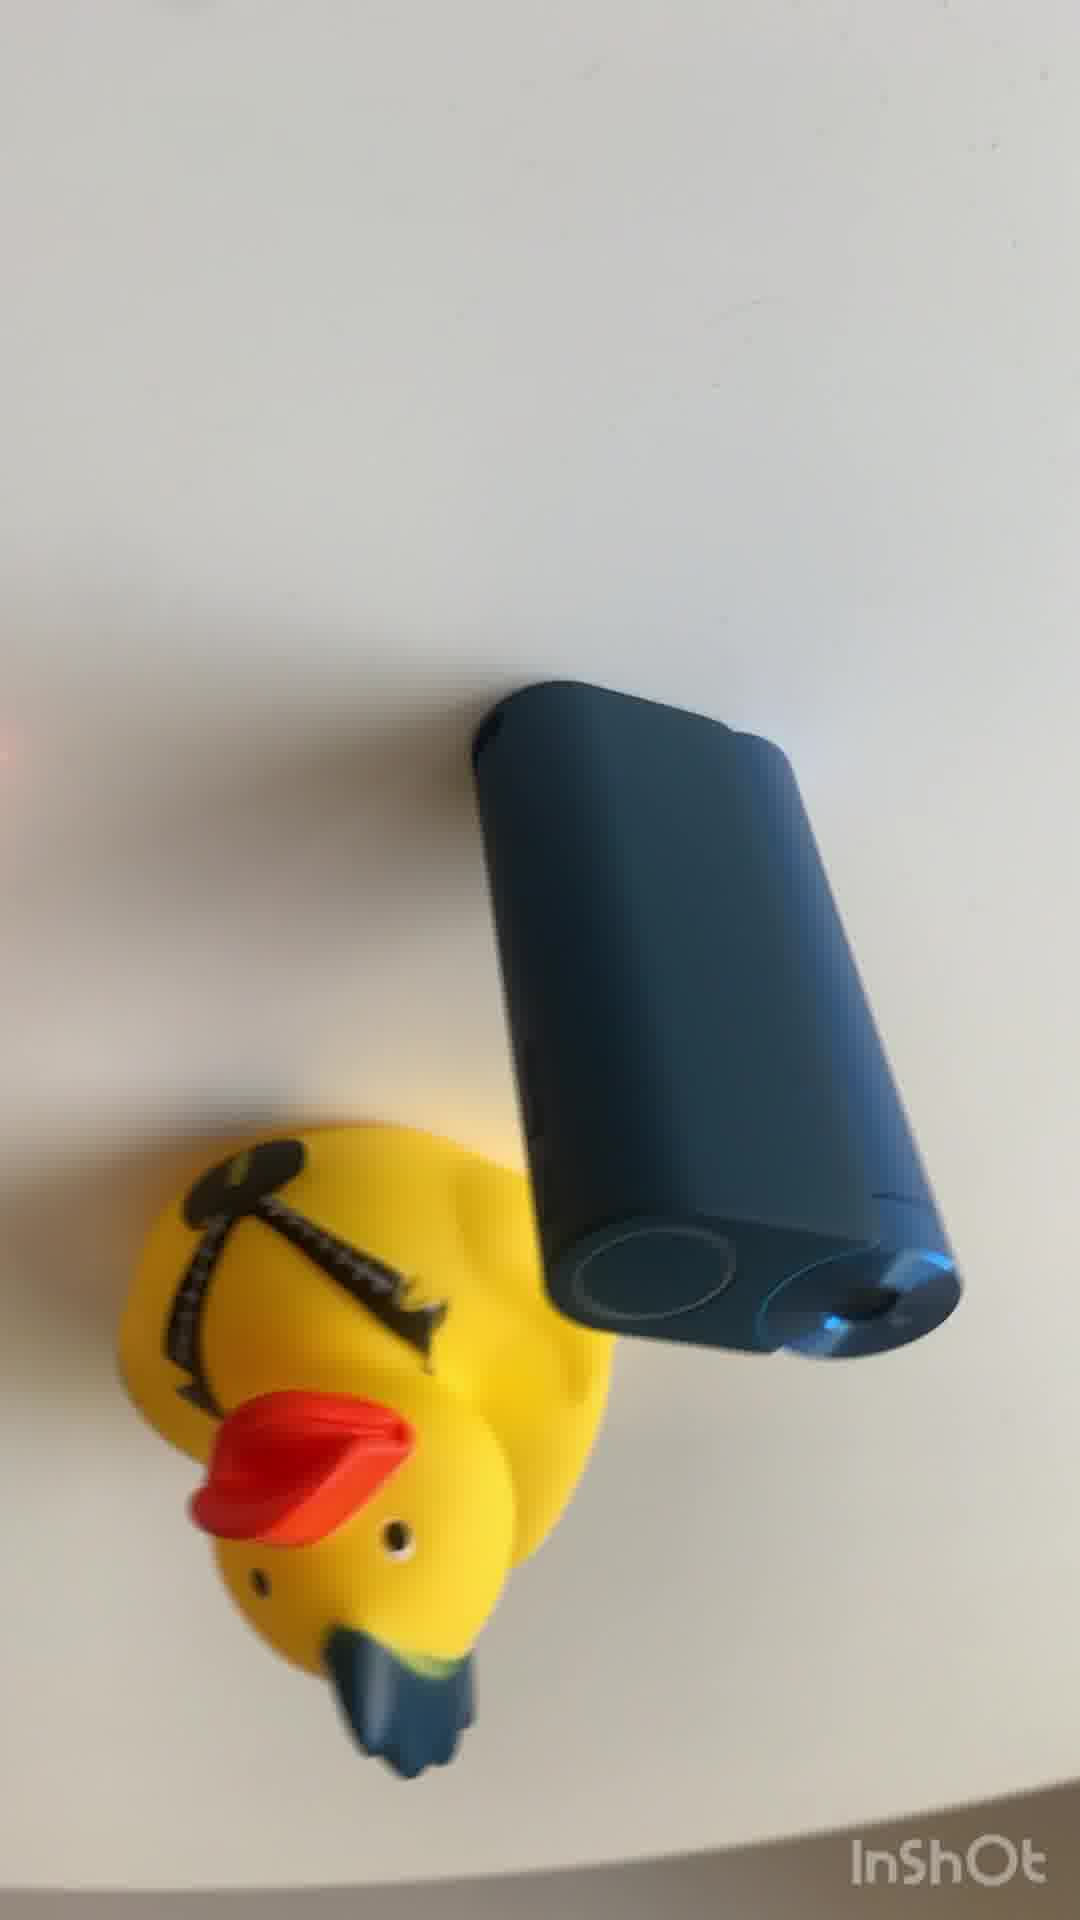duck: (113, 1127, 613, 1785)
glo: (467, 675, 964, 1360)
